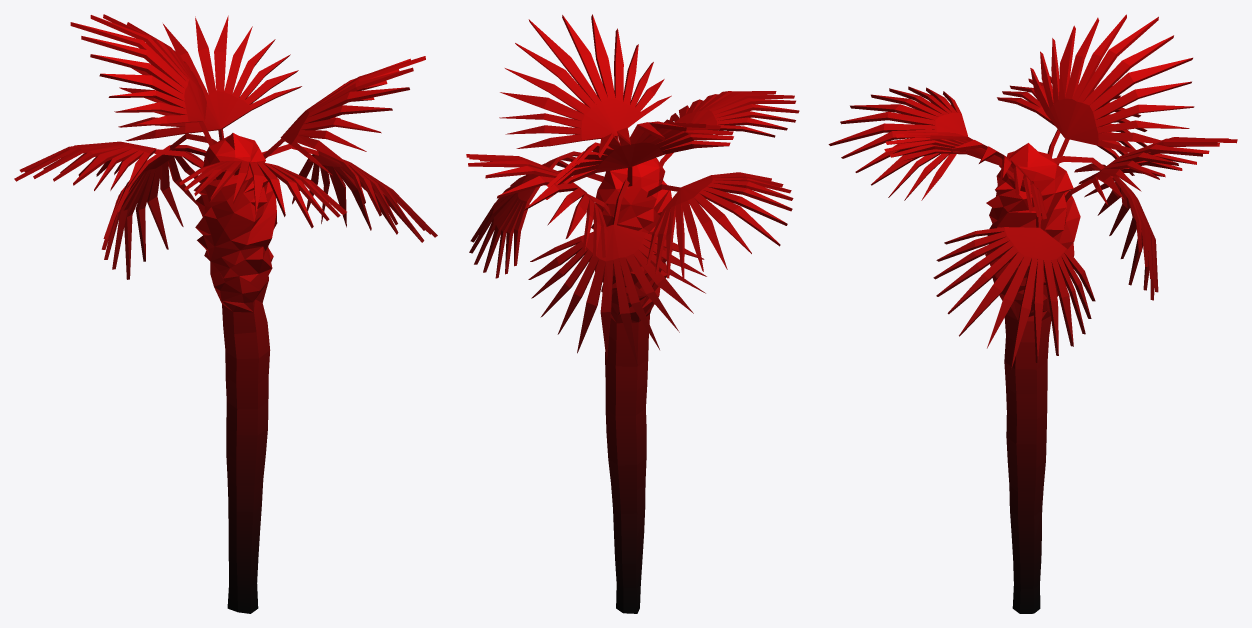
The model's file is TreeWindmill05.fbx.
3 views of the same model, side by side, from view 1: azimuth 30°, elevation 25°; view 2: azimuth 150°, elevation 25°; view 3: azimuth 270°, elevation 25° (orthographic). The views are drawn at different scales.
Parts seen in each view (by area): view 1: TreeWindmill05_LOD0; view 2: TreeWindmill05_LOD0; view 3: TreeWindmill05_LOD0.
Boxes of the visible parts, x1,y1,x2,y2 form: TreeWindmill05_LOD0: (14, 14, 437, 613); TreeWindmill05_LOD0: (466, 14, 799, 613); TreeWindmill05_LOD0: (828, 14, 1237, 613).
Size of what is drawn, in the model's own units: 477 by 701 by 479.
